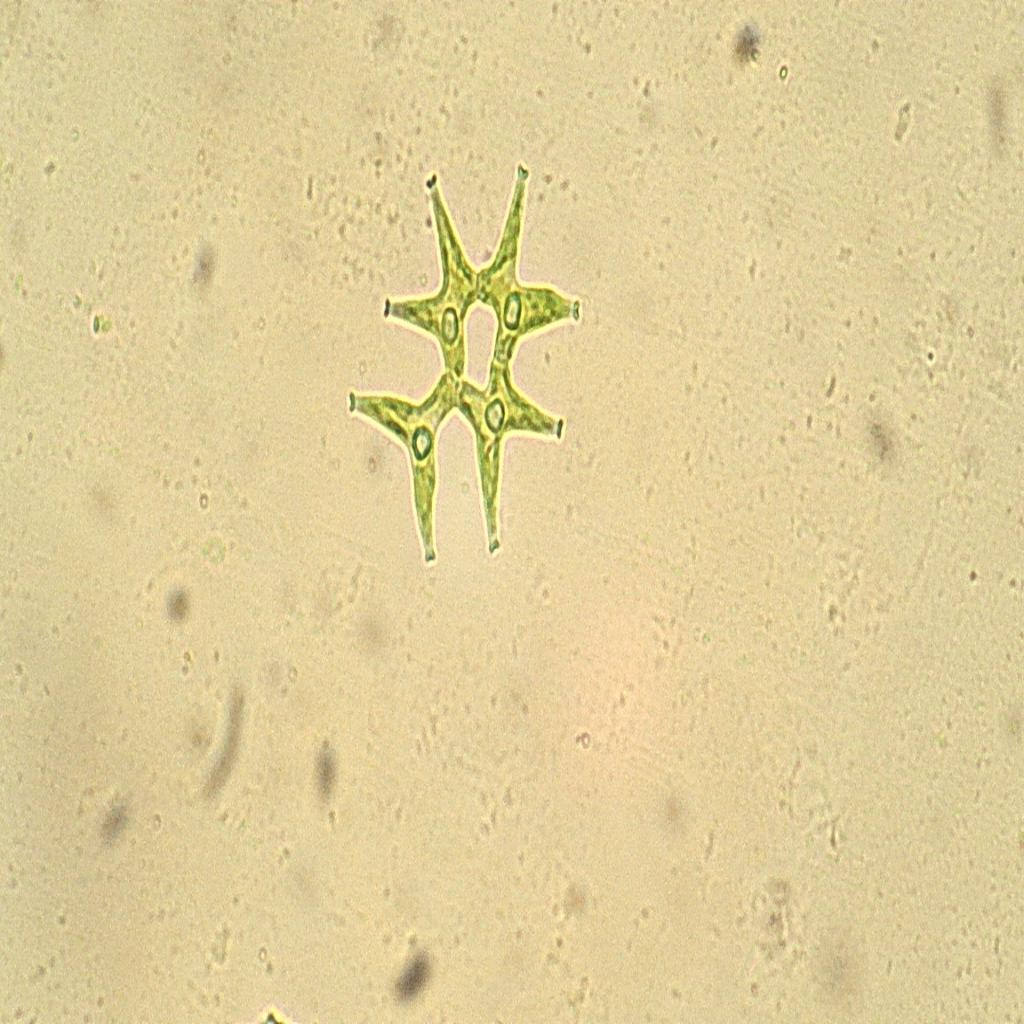Pediastrum_75FI: (338, 119, 602, 594)
